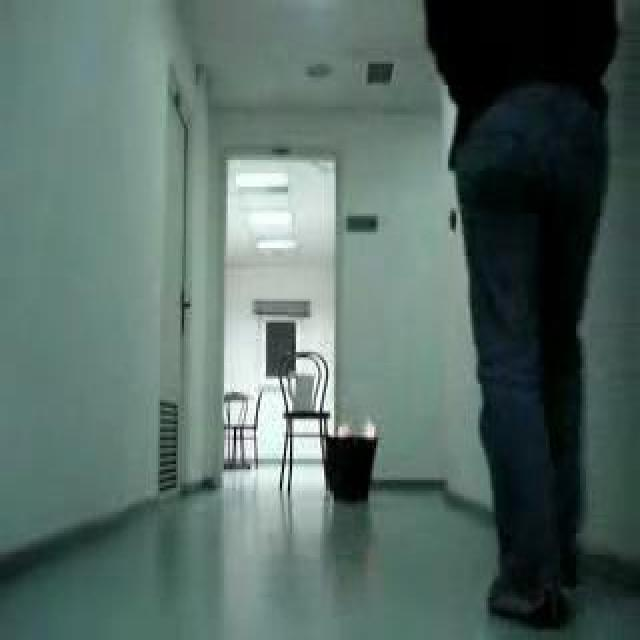Fire: (359, 414, 379, 438)
